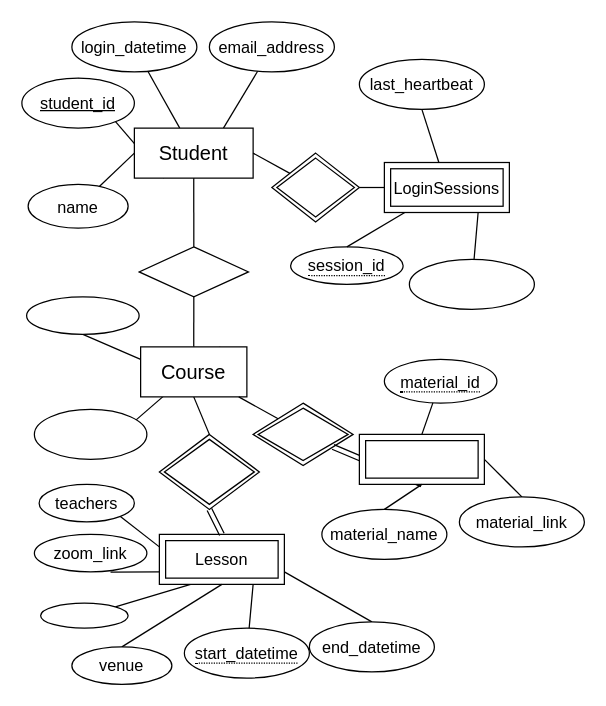
Image size: 606x706. Some labels were removed from this diagram. Here are the shapes that lost their labels. From the top down, the centre of each, then its label:
At (315,187): "involves".
At (193,271): "enroll".
At (471,283): "login_timestamp".
At (82,315): "course_name".
At (90,433): "course_code".
At (302,434): "contains".
At (208,471): "has".
At (421,458): "CourseMaterial".
At (83,615): "type".
